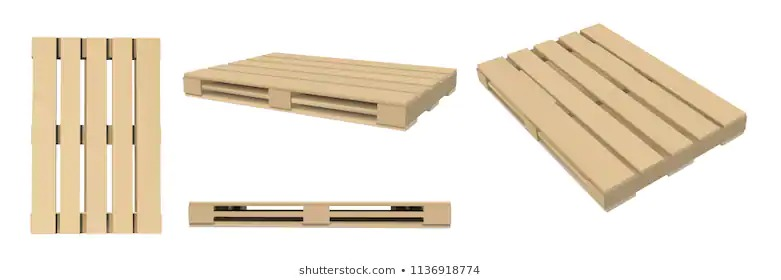pallet: (474, 10, 762, 228), (179, 35, 462, 160), (30, 34, 168, 218), (190, 198, 456, 235)
